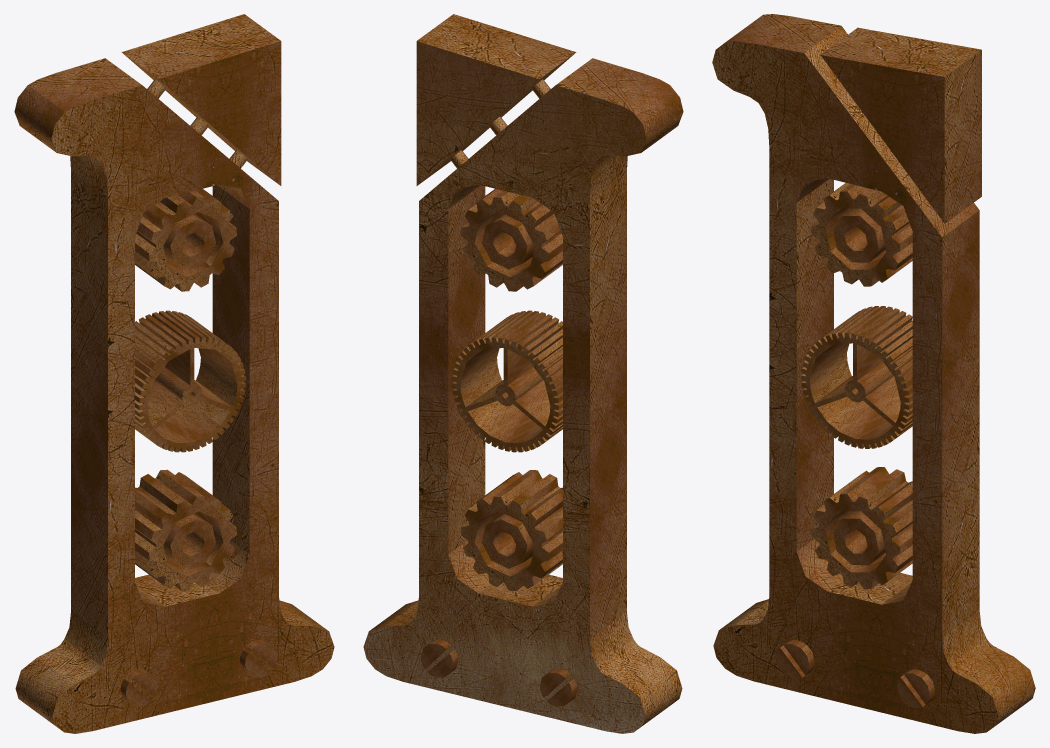
3 renders of one model, left to right at view 1: azimuth 30°, elevation 25°; view 2: azimuth 150°, elevation 25°; view 3: azimuth 330°, elevation 25°, orthographic.
Parts seen in each view (by area): view 1: 049, Cogwheel_426, Cogwheel_002, Cogwheel_425, Screw_752, Screw_760; view 2: 049, Cogwheel_426, Cogwheel_002, Cogwheel_425, Screw_752, Screw_760; view 3: 049, Cogwheel_426, Cogwheel_002, Cogwheel_425, Screw_752, Screw_760.
Part boxes in pixels (box(x1,y1,x2,y2)): 049: box(14, 14, 334, 733); Cogwheel_426: box(135, 310, 245, 452); Cogwheel_002: box(135, 469, 236, 590); Cogwheel_425: box(135, 188, 236, 291); Screw_752: box(120, 669, 157, 706); Screw_760: box(239, 640, 277, 677); 049: box(363, 14, 683, 733); Cogwheel_426: box(452, 310, 562, 452); Cogwheel_002: box(461, 470, 562, 590); Cogwheel_425: box(461, 188, 562, 291); Screw_752: box(540, 669, 577, 706); Screw_760: box(420, 640, 458, 677); 049: box(712, 14, 1035, 733); Cogwheel_426: box(801, 306, 912, 448); Cogwheel_002: box(811, 467, 912, 589); Cogwheel_425: box(811, 183, 912, 286); Screw_752: box(776, 640, 814, 678); Screw_760: box(897, 669, 934, 707).
Bounding box in the file's own units: 44.2 × 96.1 × 12.89.
Materials: 1 (1 with a texture image).
